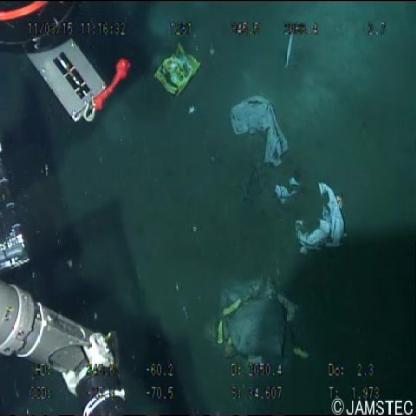Rov: (1, 275, 131, 416), (1, 1, 131, 125)
Rác: (271, 177, 352, 259), (228, 94, 290, 173), (149, 38, 204, 96)
